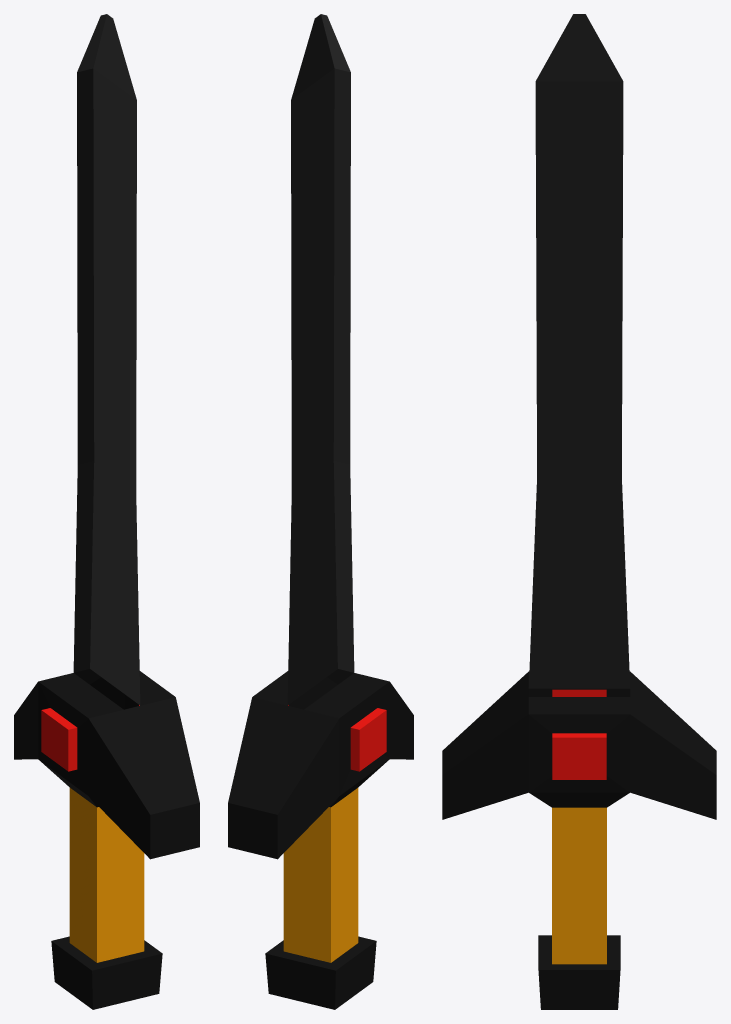
File: Sword_1.FBX
3 views of the same model, side by side, from view 1: azimuth 30°, elevation 25°; view 2: azimuth 150°, elevation 25°; view 3: azimuth 270°, elevation 25° (orthographic).
Parts seen in each view (by area): view 1: Box069; view 2: Box069; view 3: Box069.
Part boxes in pixels (bbox=[...]): Box069: bbox=[14, 14, 199, 1009]; Box069: bbox=[228, 14, 413, 1009]; Box069: bbox=[442, 14, 716, 1009].
Size of the model in its own units: 0.8762 by 7.63 by 1.94.
